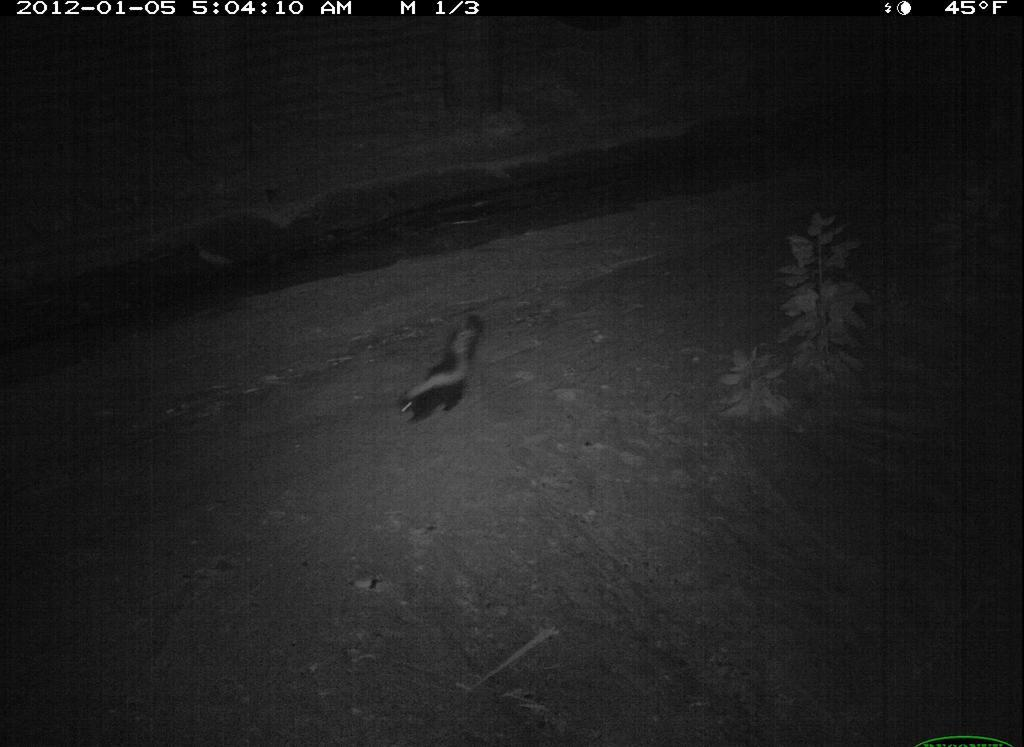skunk: (382, 306, 495, 425)
